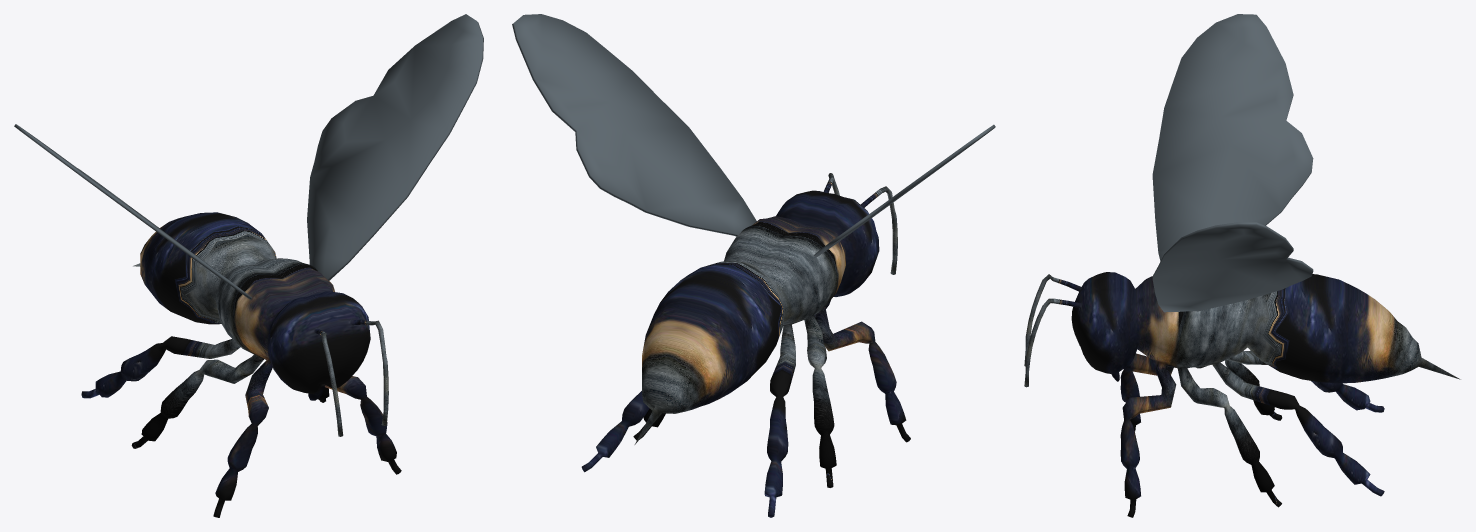
Rendered from BEE1.OBJ.
3 renders of one model, left to right at view 1: azimuth 30°, elevation 25°; view 2: azimuth 150°, elevation 25°; view 3: azimuth 270°, elevation 25°, orthographic. The views are drawn at different scales.
Parts seen in each view (by area): view 1: BEE; view 2: BEE; view 3: BEE.
Boxes of the visible parts, bbox=[...] form: BEE: bbox=[14, 14, 483, 517]; BEE: bbox=[512, 14, 995, 517]; BEE: bbox=[1024, 14, 1460, 517].
Bounding box in the file's own units: 0.015 × 0.0119 × 0.0132.
